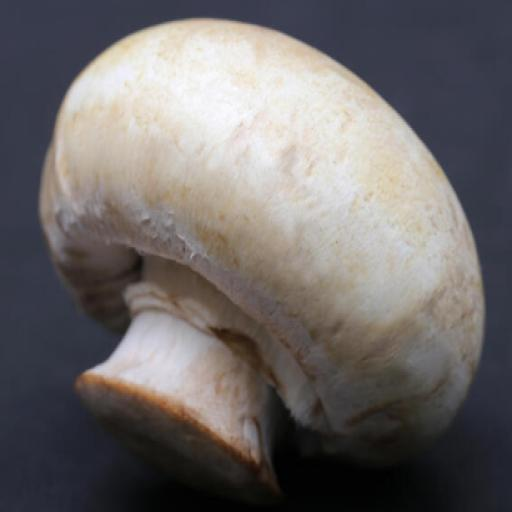Button Mushroom: (34, 14, 487, 488)
